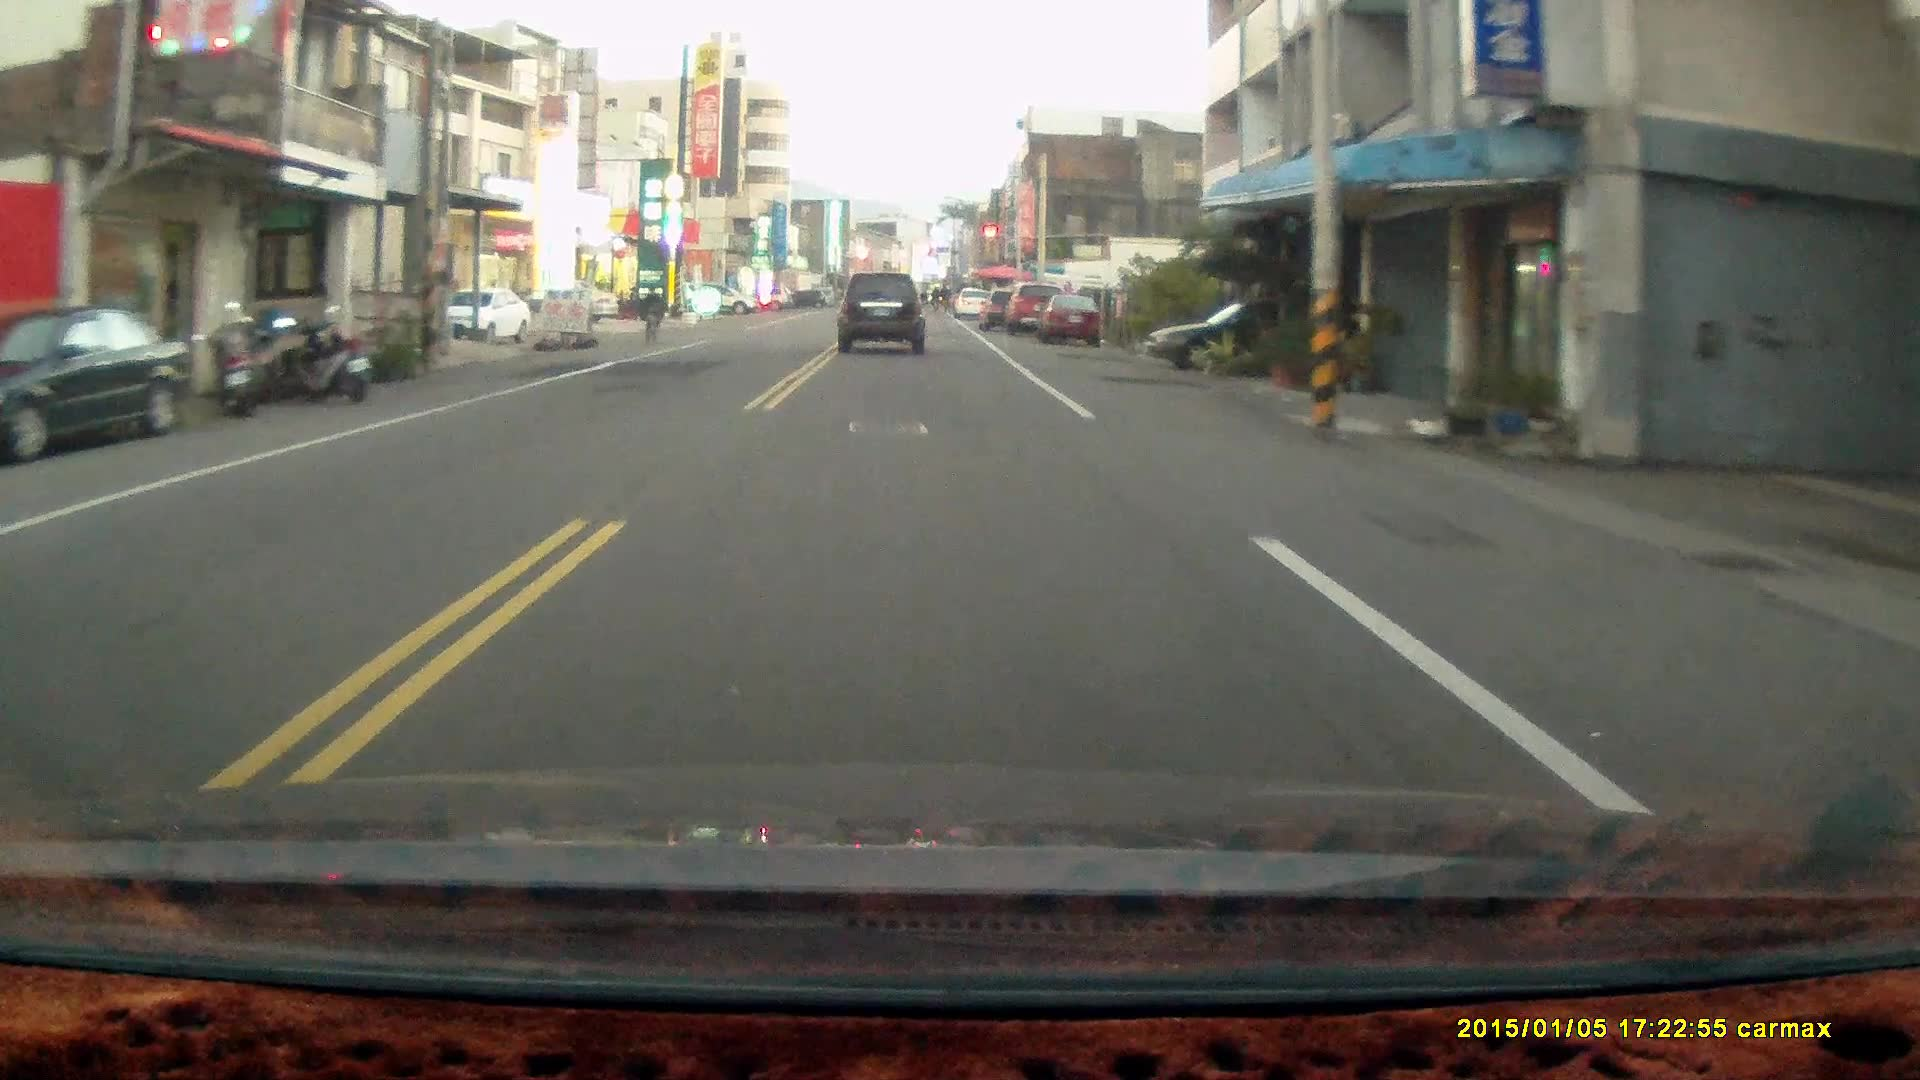rider: (638, 282, 664, 349)
vehicle: (1, 303, 197, 468), (1142, 306, 1329, 371), (837, 269, 930, 357), (439, 287, 532, 344), (1035, 292, 1102, 345)
